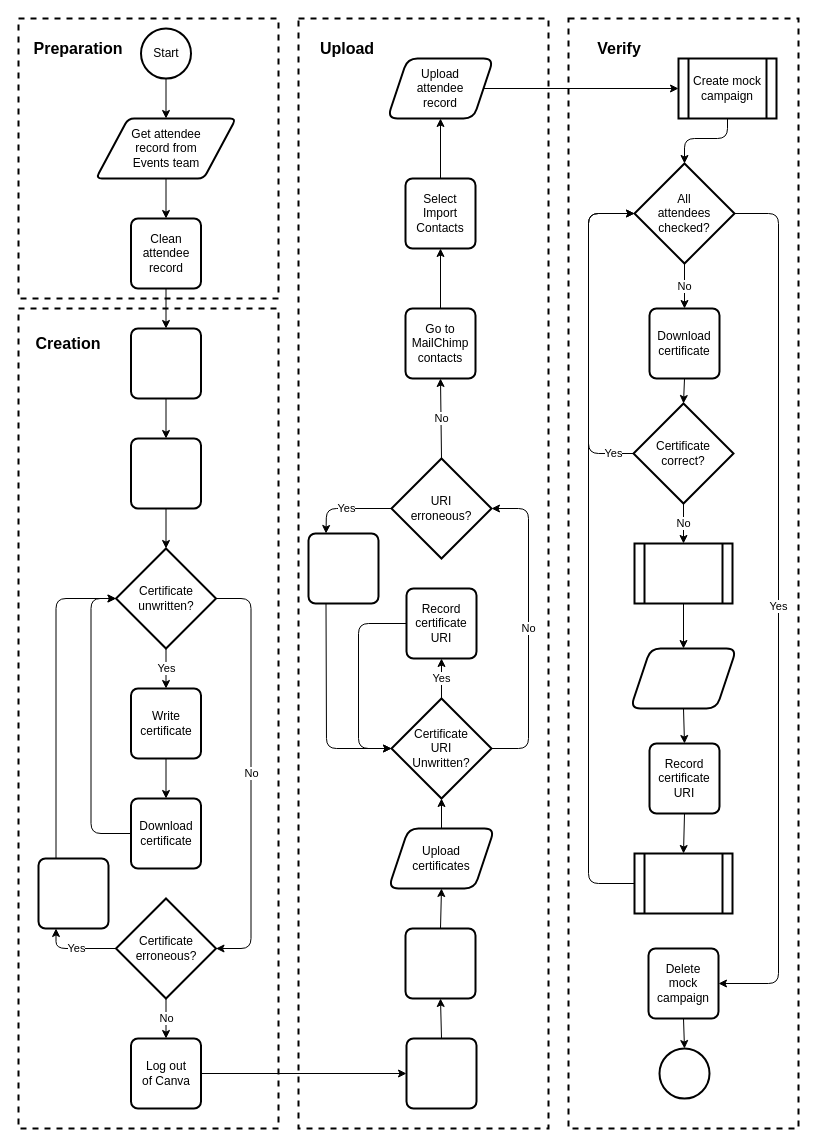
The diagram is 816 pixels wide and 1146 high, and some of its shapes have lost their labels. The centre of each missing label's shape, as x and y in pixels:
"Delete certificate" goes at (73,893).
"Delete URI" goes at (343,568).
"Find certificate template" goes at (166,473).
"Find Content Studio" goes at (440,963).
"Log into Canva" goes at (166,363).
"Log into MailChimp" goes at (441,1073).
"Remake certificate" goes at (683,573).
"Stop" goes at (684,1073).
"Update MailChimp contact" goes at (683,883).
"Upload certificate" goes at (683,678).
